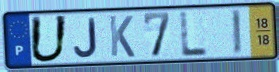7: (141, 11, 172, 60)
I: (230, 7, 244, 57)
J: (72, 17, 99, 59)
K: (107, 14, 137, 59)
L: (179, 10, 211, 58)
U: (28, 14, 71, 65)
